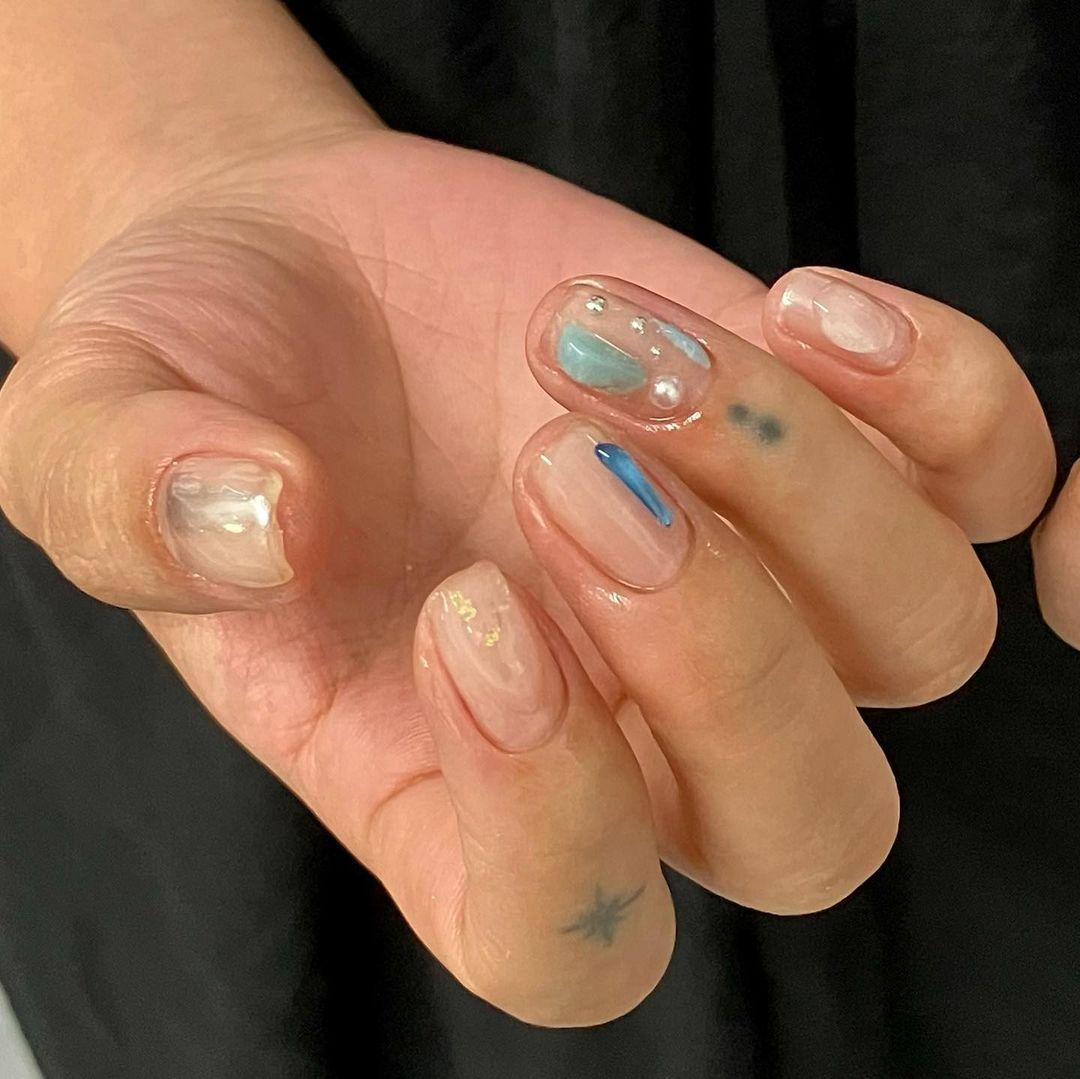nail: (527, 415, 698, 594), (524, 274, 714, 429), (421, 558, 569, 754), (153, 450, 295, 590), (764, 264, 919, 376)
